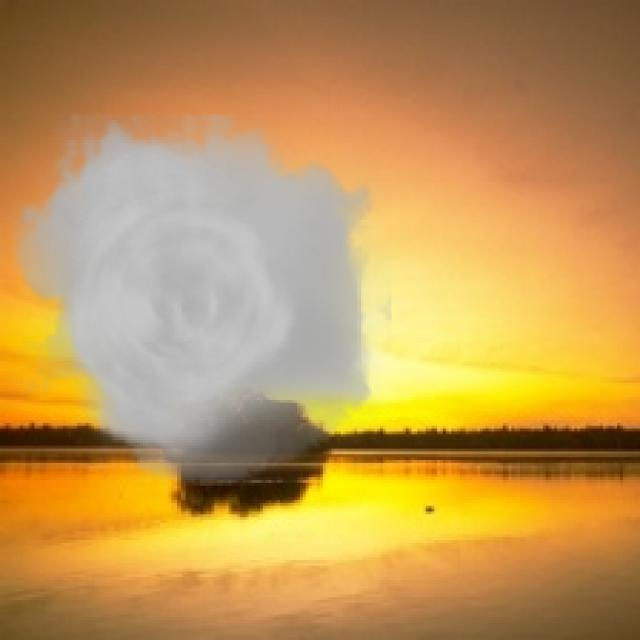smoke: (0, 114, 392, 486)
